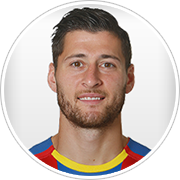smile: (76, 91, 108, 106)
